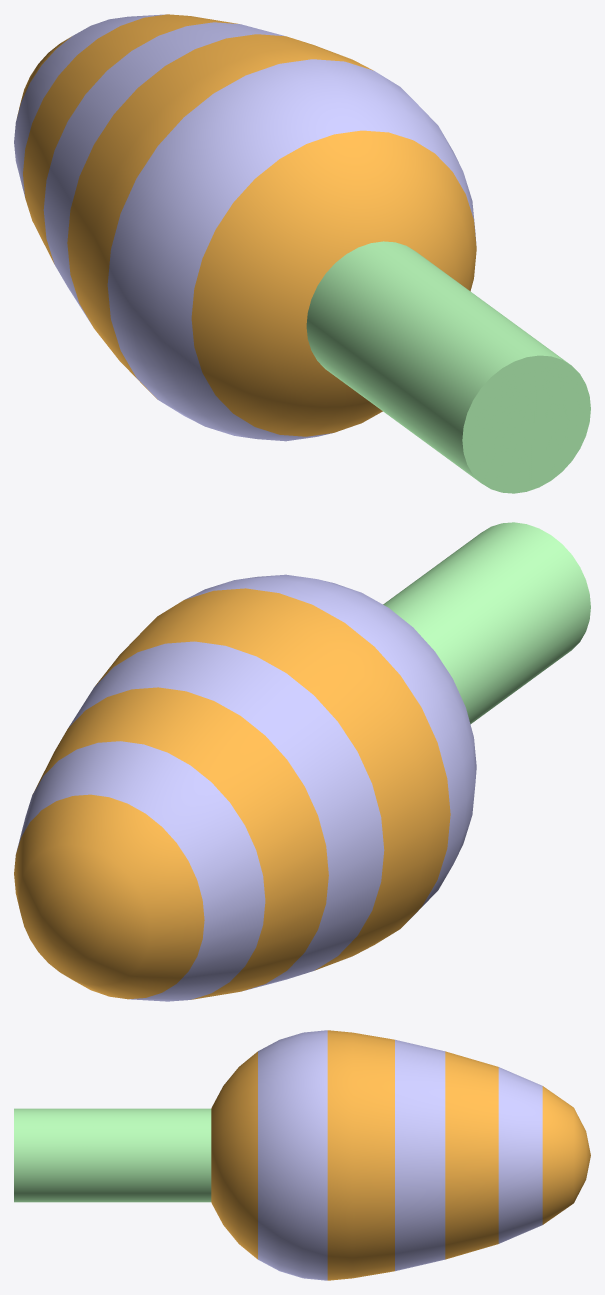
Rendered from Tree.fbx.
The picture shows the model from 3 angles, top to bottom: view 1: azimuth 30°, elevation 25°; view 2: azimuth 150°, elevation 25°; view 3: azimuth 270°, elevation 25°; orthographic projection. The views are drawn at different scales.
Parts seen in each view (by area): view 1: Cylinder; view 2: Cylinder; view 3: Cylinder.
Boxes of the visible parts, box(x1,y1,x2,y2) form: Cylinder: box(14, 14, 590, 493); Cylinder: box(14, 522, 590, 1001); Cylinder: box(14, 1030, 590, 1280).
Size of the model in its own units: 3.5 by 3.5 by 8.05.
